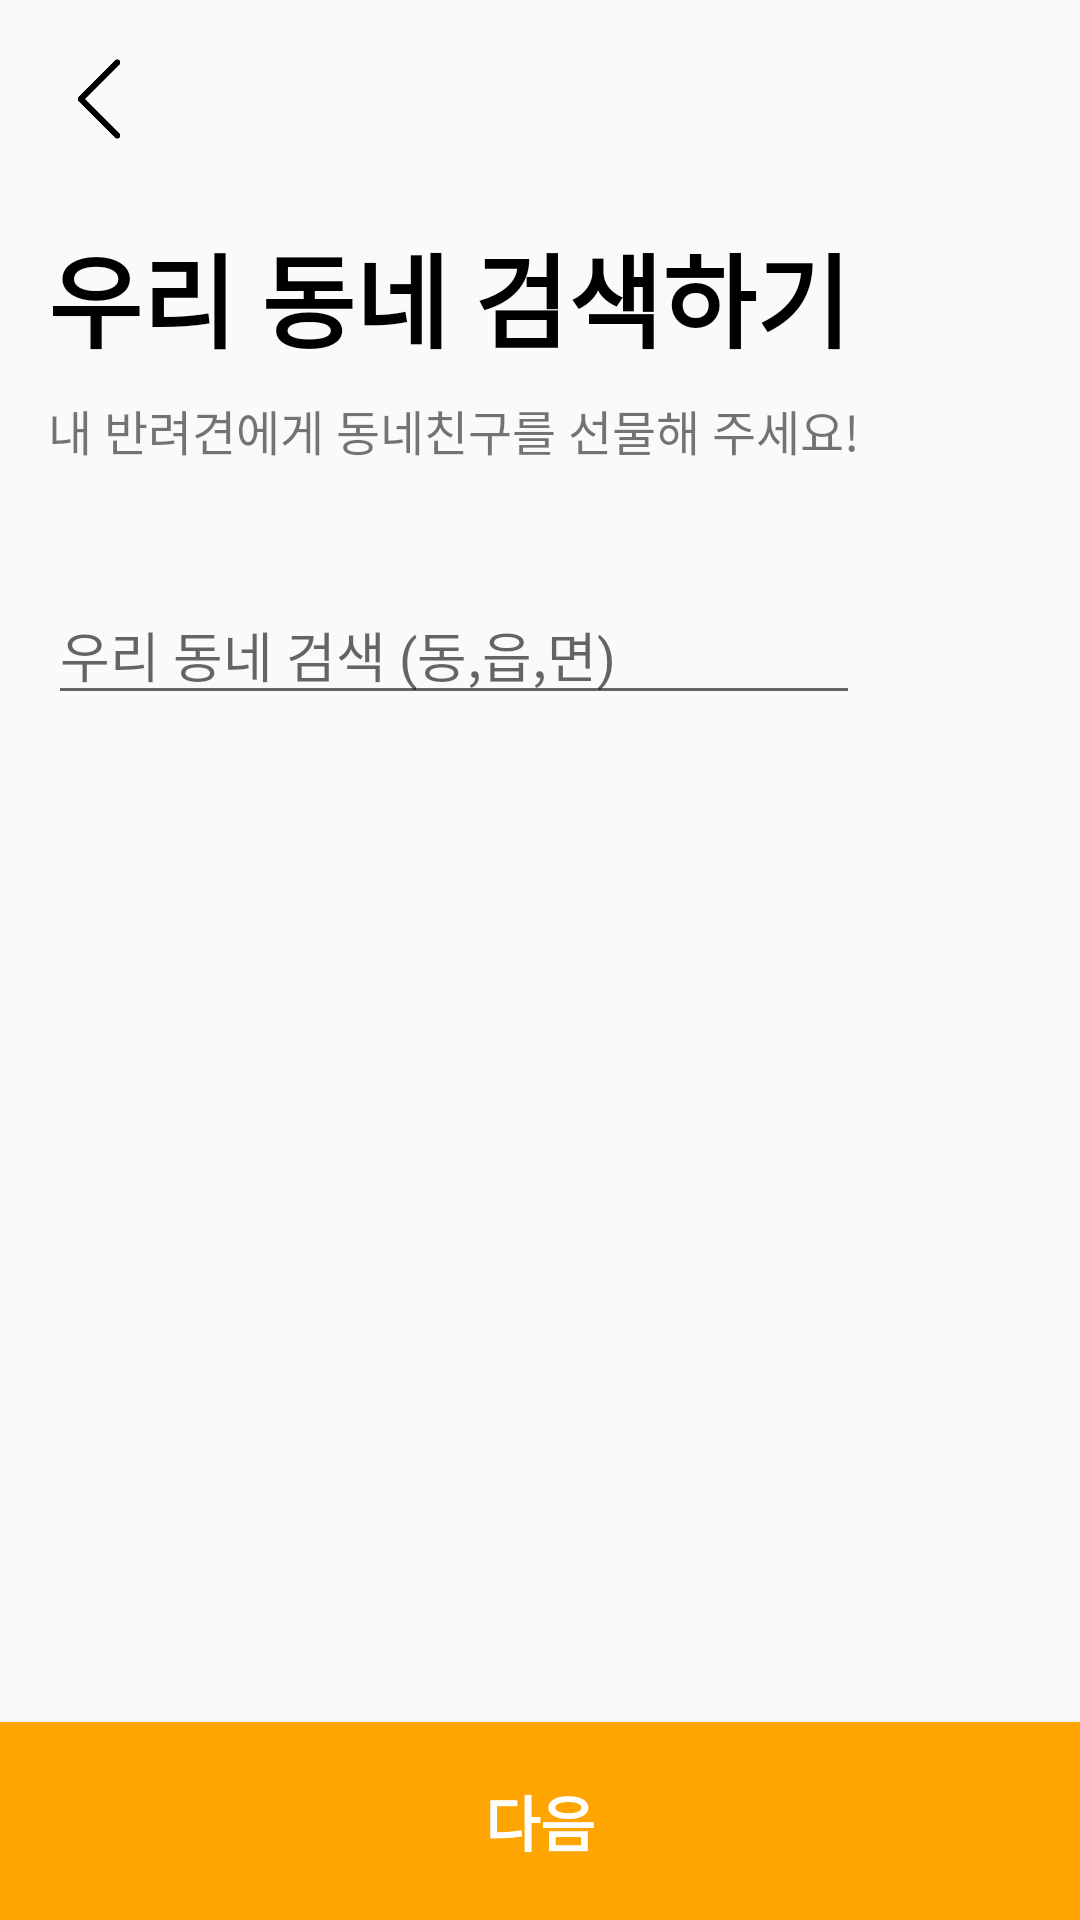

Icon click points for this 1080px×1920px phone screenshot, format (x=x, y=y):
back: (x=99, y=99)
